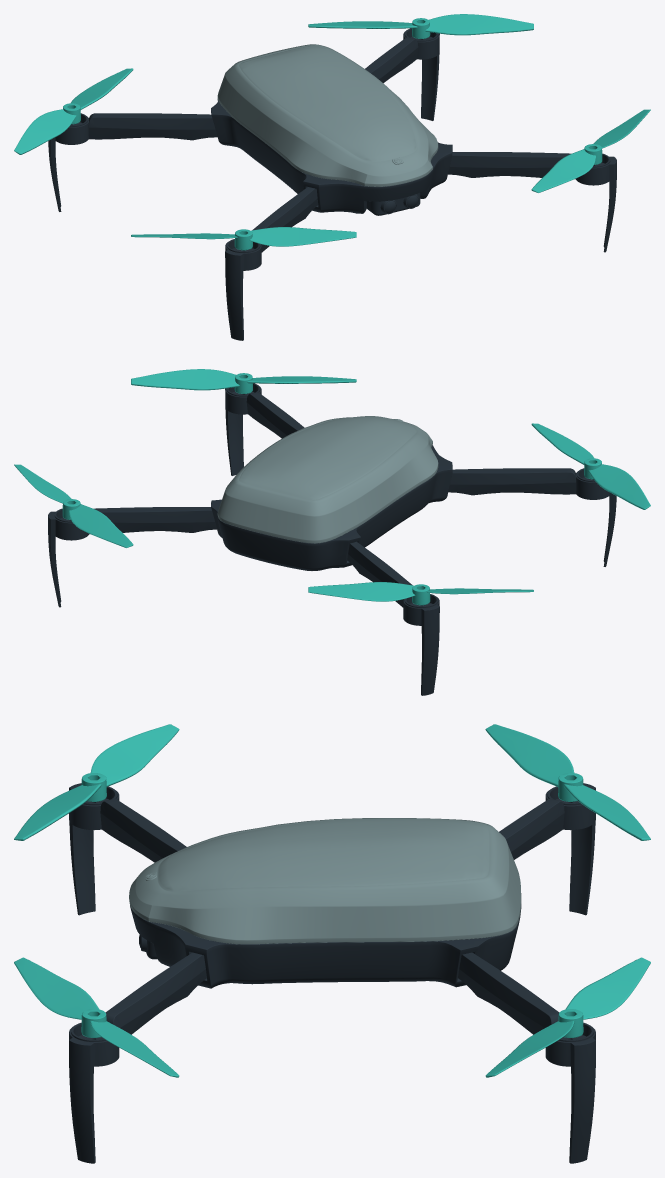
Rendered from drone.glb.
3 views of the same model, one above another, from view 1: azimuth 30°, elevation 25°; view 2: azimuth 150°, elevation 25°; view 3: azimuth 270°, elevation 25° (orthographic). The views are drawn at different scales.
Bounding box in the file's own units: 1 × 0.2623 × 0.7664.
